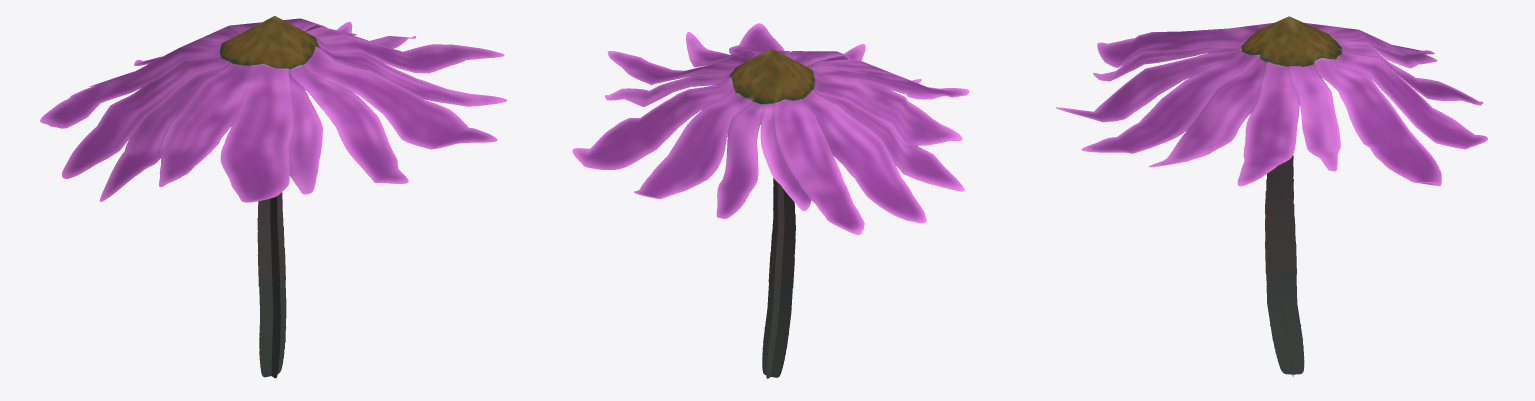
The model's file is Flower01_GR.fbx.
3 views of the same model, side by side, from view 1: azimuth 30°, elevation 25°; view 2: azimuth 150°, elevation 25°; view 3: azimuth 270°, elevation 25° (orthographic). The views are drawn at different scales.
Parts seen in each view (by area): view 1: Flower; view 2: Flower; view 3: Flower.
Boxes of the visible parts, box(x1,y1,x2,y2) form: Flower: box(40, 16, 506, 378); Flower: box(572, 23, 969, 378); Flower: box(1056, 16, 1487, 376).
Bounding box in the file's own units: 0.8084 × 0.6564 × 0.809.
1 material, 1 textured.
